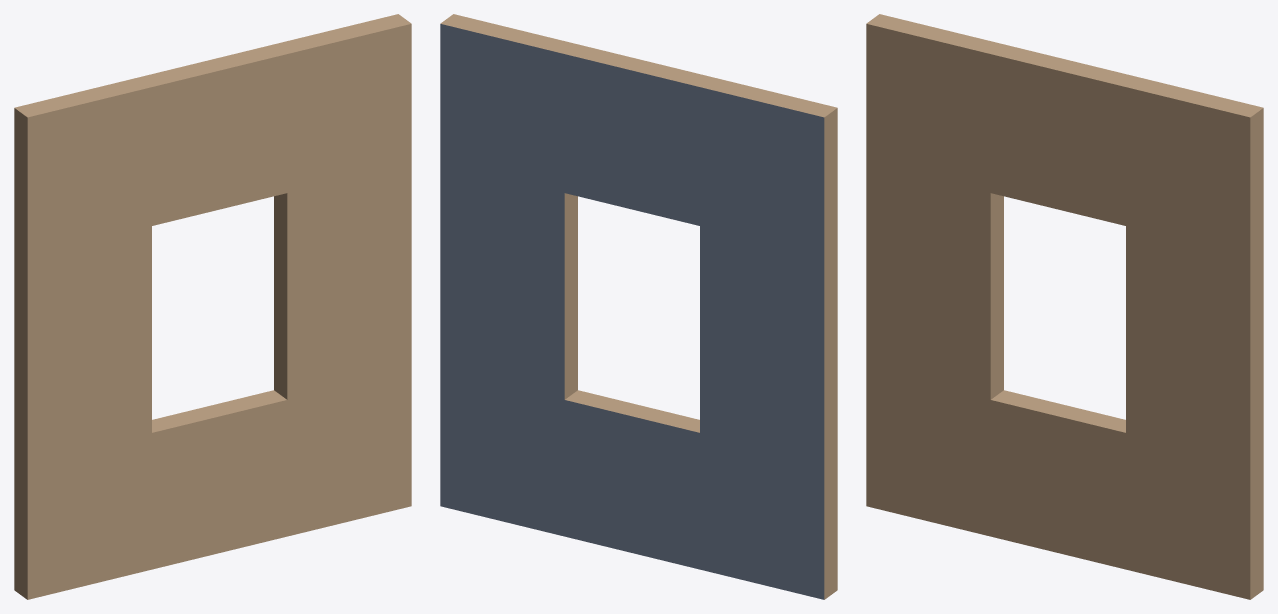
Rendered from Wall3_C3_03.fbx.
The picture shows the model from 3 angles, left to right: view 1: azimuth 30°, elevation 25°; view 2: azimuth 150°, elevation 25°; view 3: azimuth 330°, elevation 25°; orthographic projection.
Parts seen in each view (by area): view 1: Wall3_C3_03; view 2: Wall3_C3_03; view 3: Wall3_C3_03.
Boxes of the visible parts, box(x1,y1,x2,y2) form: Wall3_C3_03: box(14, 14, 411, 599); Wall3_C3_03: box(440, 14, 837, 599); Wall3_C3_03: box(866, 14, 1263, 599).
Size of the model in its own units: 250 by 300 by 15.
